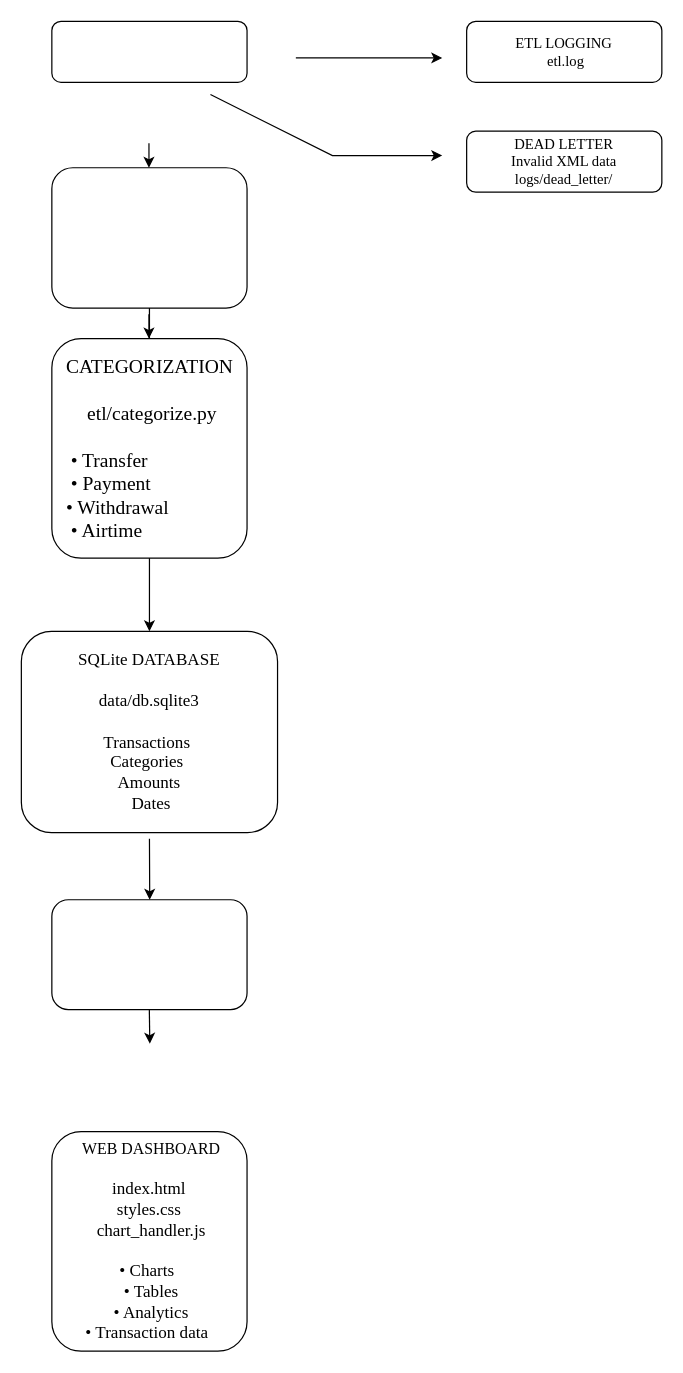
The diagram is 683 pixels wide and 1373 high, and some of its shapes have lost their labels. Here are the shapes that lost their labels. From the top down, the centre of each, then its label:
(149,51): XML PARSER etl/parse_xml.py
(149,237): CLEAN & NORMALIZE etl/clean_normalize.py • Amounts • Dates • Phone numbers
(149,954): FastAPI api/app.py /transactions /analytics
